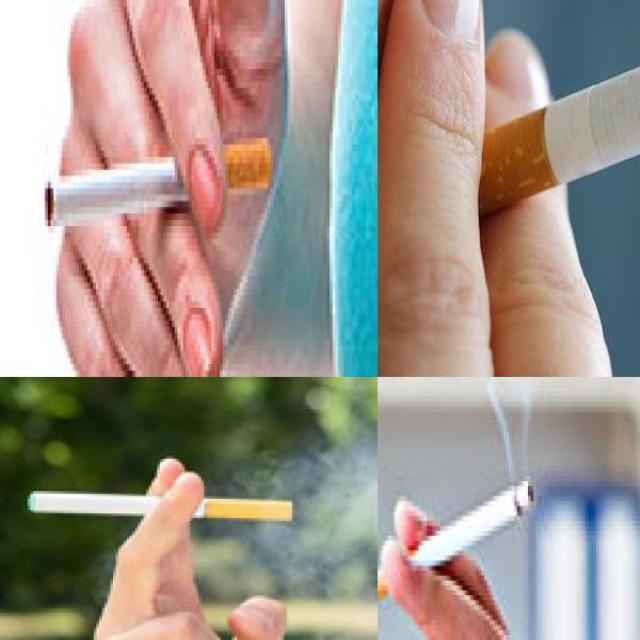smoking: (398, 6, 639, 242), (44, 138, 270, 229), (378, 478, 534, 601), (26, 489, 292, 522)
